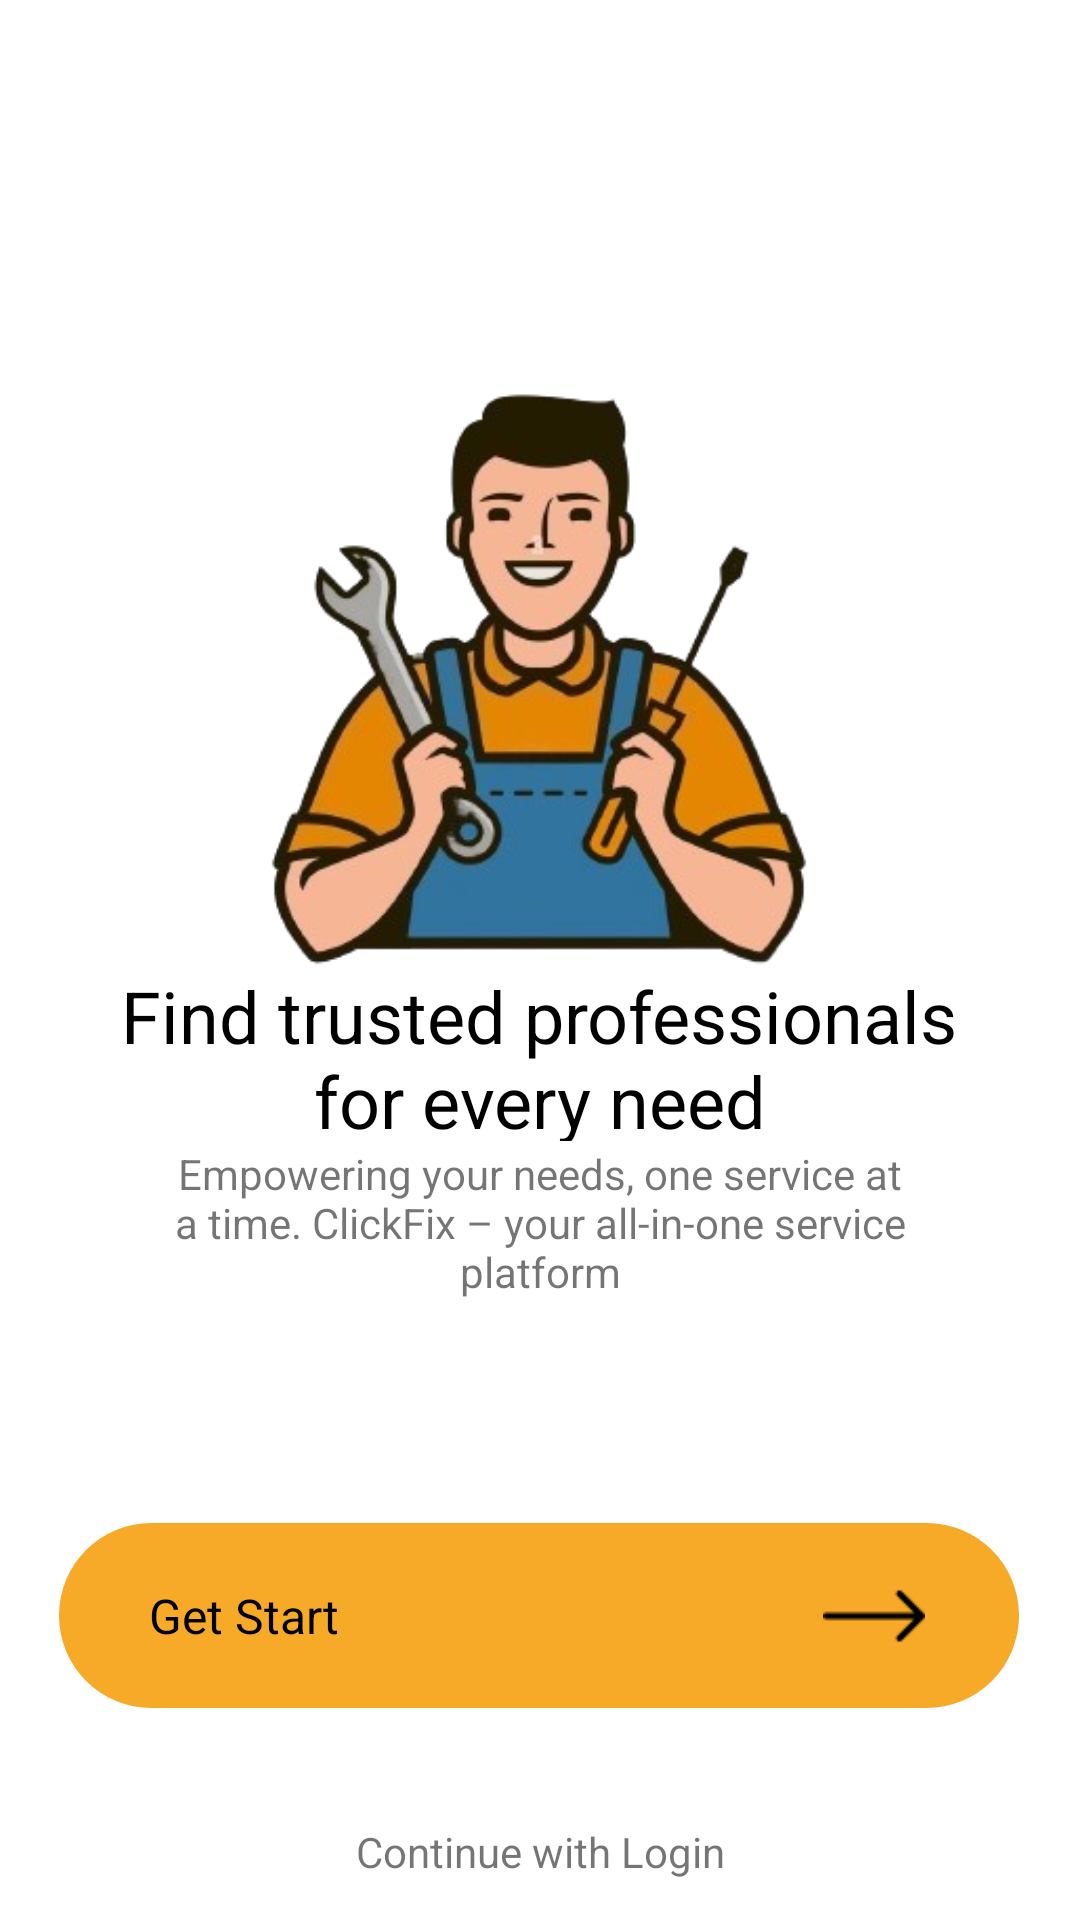

Screen size 1080w x 1920h. Icon name, then its box in pixels as (x1, y1, x2, y2):
arrow right: (823, 1590, 925, 1642)
